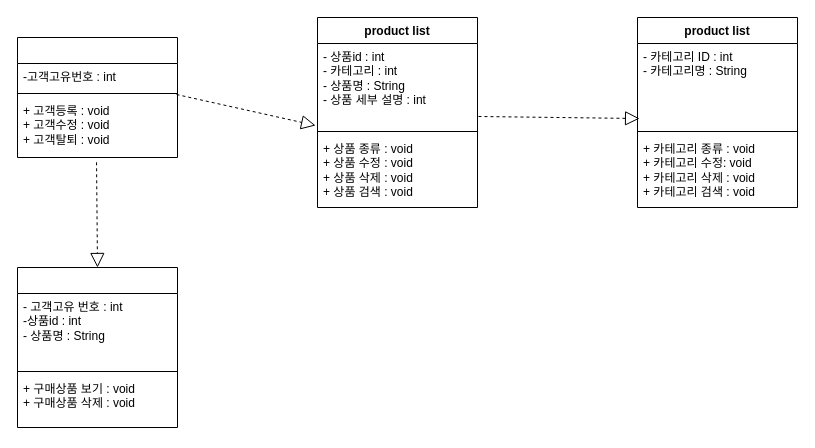
This 815x448 diagram has some shape labels left out. The box of each missing label's shape, as (x1, y1, x2, y2) in pixels:
customer: (16, 36, 178, 158)
purchase list: (16, 266, 178, 428)
